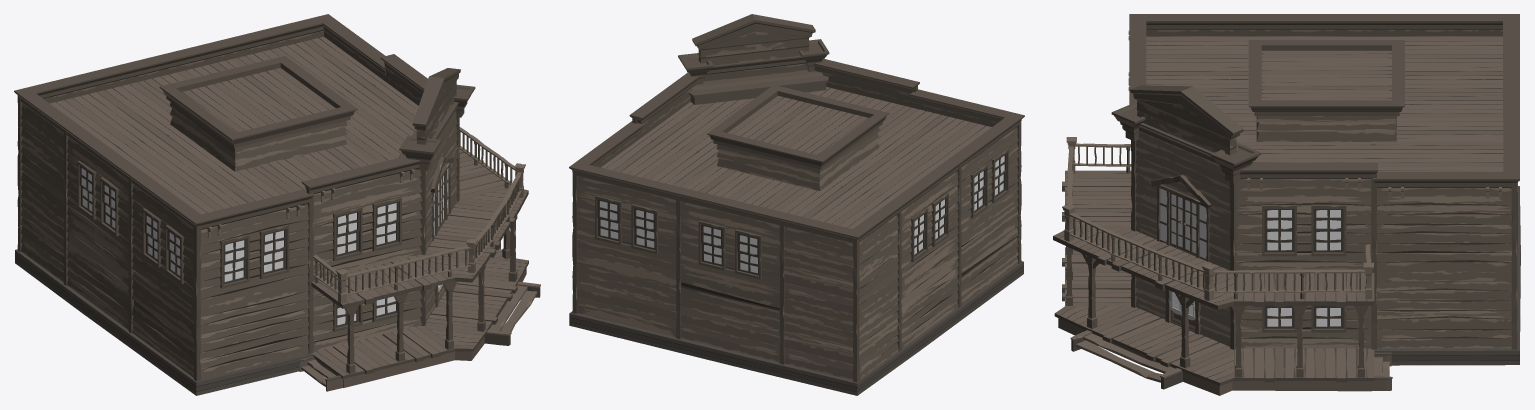
The model's file is HollaHaus.fbx.
The picture shows the model from 3 angles, left to right: view 1: azimuth 30°, elevation 25°; view 2: azimuth 150°, elevation 25°; view 3: azimuth 270°, elevation 25°; orthographic projection. The views are drawn at different scales.
Visible parts, largest first — view 1: SM_Bld_Saloon_01, SM_Bld_Saloon_Glass; view 2: SM_Bld_Saloon_01, SM_Bld_Saloon_Glass; view 3: SM_Bld_Saloon_01, SM_Bld_Saloon_Glass, SM_Bld_Saloon_UpstairsDoor_02, SM_Bld_Saloon_UpstairsDoor_01.
Part boxes in pixels (x1,y1,x2,y2): SM_Bld_Saloon_01: (14,14,540,395); SM_Bld_Saloon_Glass: (82,168,448,325); SM_Bld_Saloon_01: (569,14,1024,395); SM_Bld_Saloon_Glass: (600,156,1004,273); SM_Bld_Saloon_01: (1053,14,1520,395); SM_Bld_Saloon_Glass: (1160,188,1340,326); SM_Bld_Saloon_UpstairsDoor_02: (1183,198,1196,255); SM_Bld_Saloon_UpstairsDoor_01: (1170,192,1183,250).
Bounding box in the file's own units: 1666 × 991 × 1668.
